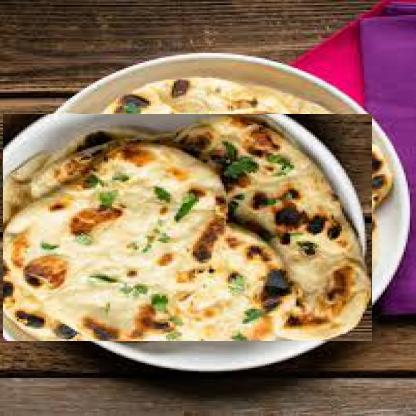naan: (2, 113, 372, 341), (80, 76, 370, 308), (230, 86, 395, 206)
